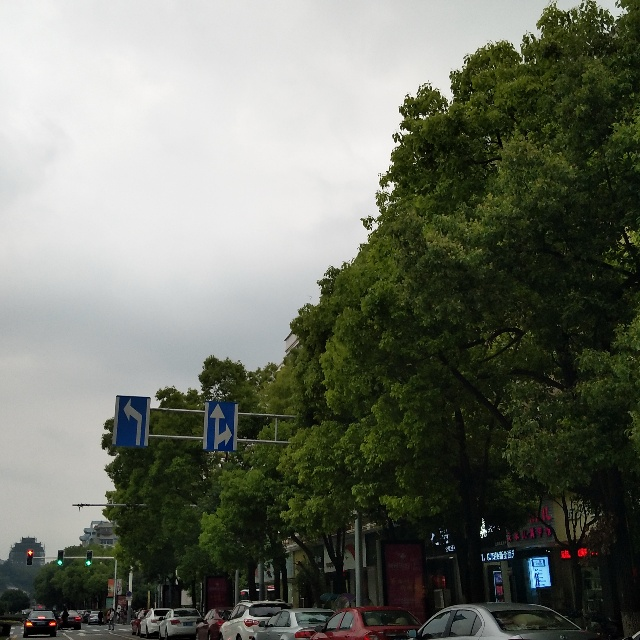left: (113, 396, 149, 447)
